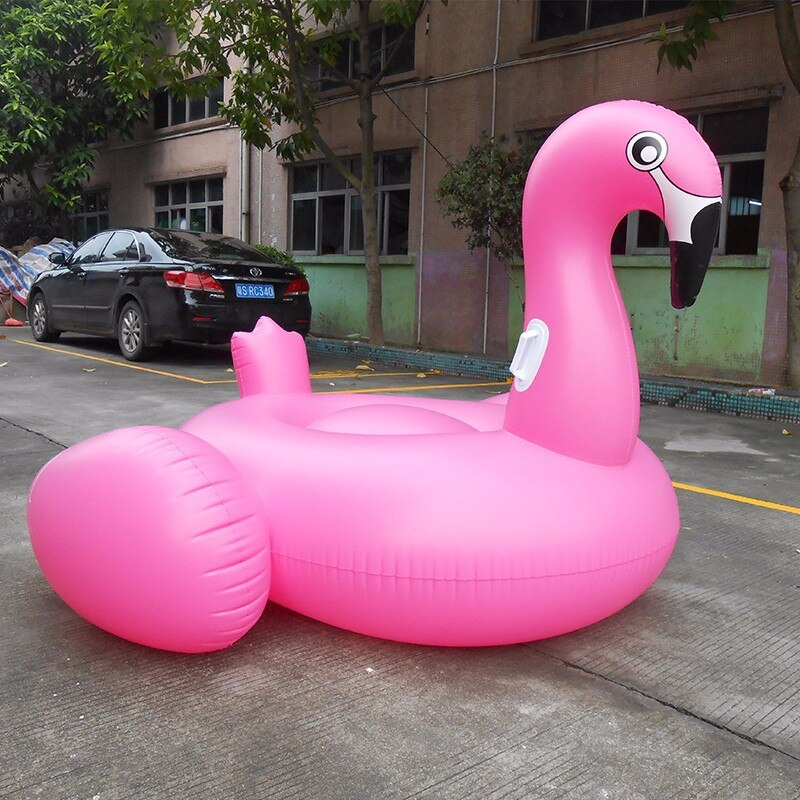Flamingo: (19, 98, 725, 662)
